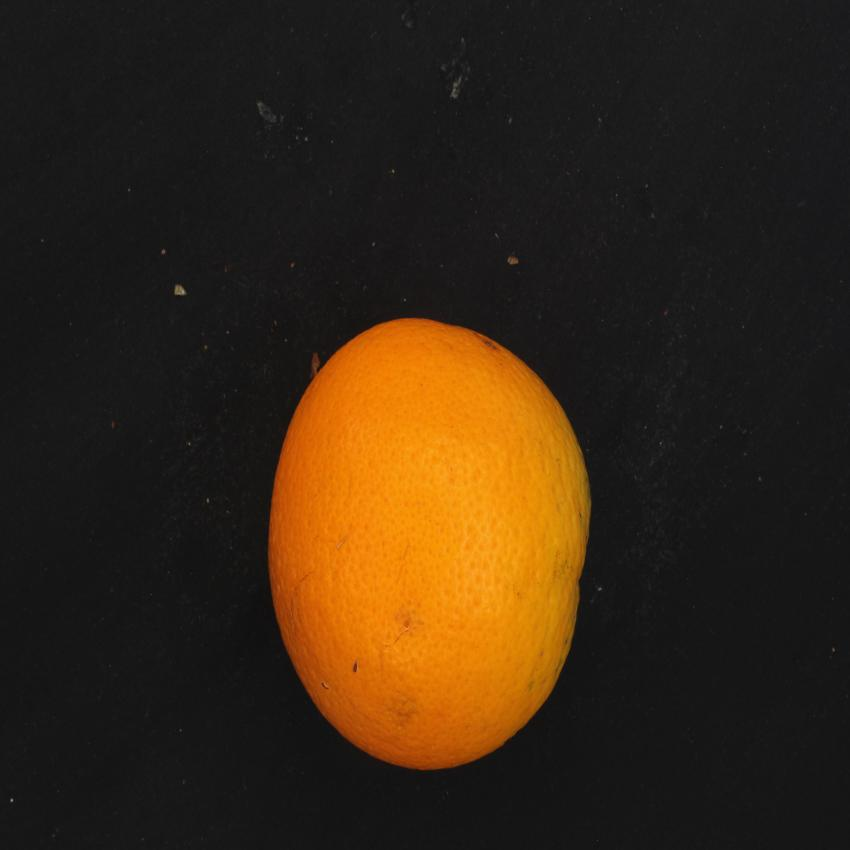Buen estado: (260, 304, 605, 783)
